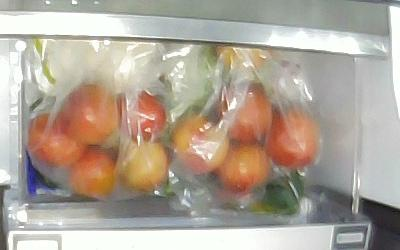prune_vinyl: (213, 84, 273, 142), (170, 116, 229, 174), (61, 85, 118, 144), (267, 109, 320, 168), (29, 113, 87, 165), (219, 137, 271, 195), (119, 139, 173, 193), (110, 91, 166, 140), (62, 148, 115, 199)
